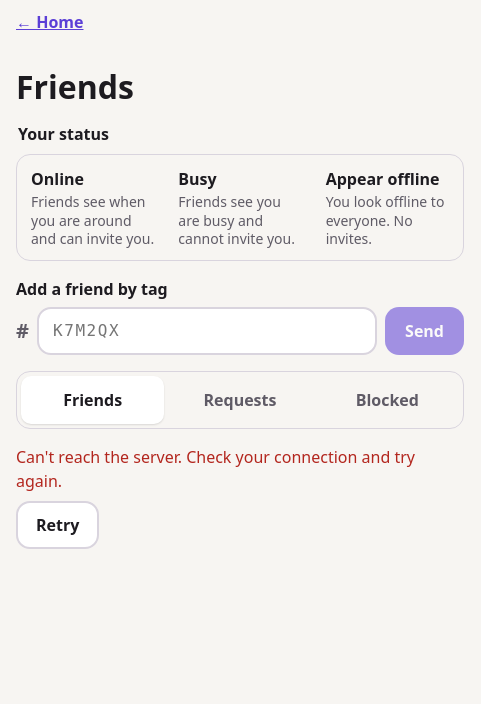
Test: add friend › auto-accepted requests say so
Step 1. Type "7TVCZE" into the field labelled "Add a friend by tag" → (207, 331), box x1=37 y1=307 x2=377 y2=355
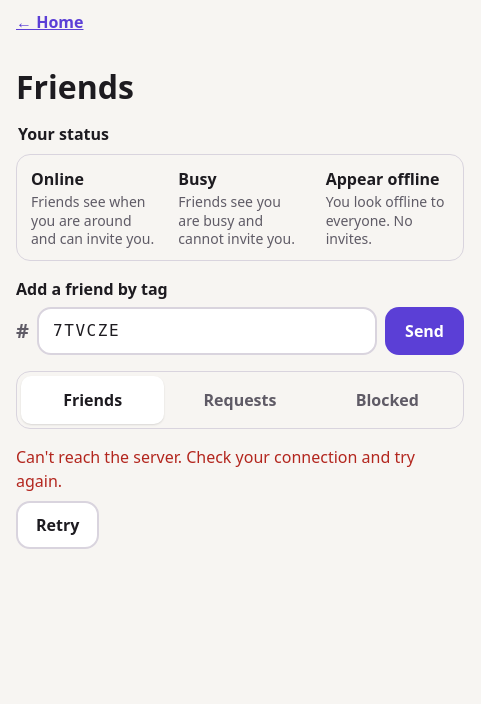
Step 2. Click the button "Send" → (425, 331), box x1=385 y1=307 x2=464 y2=355
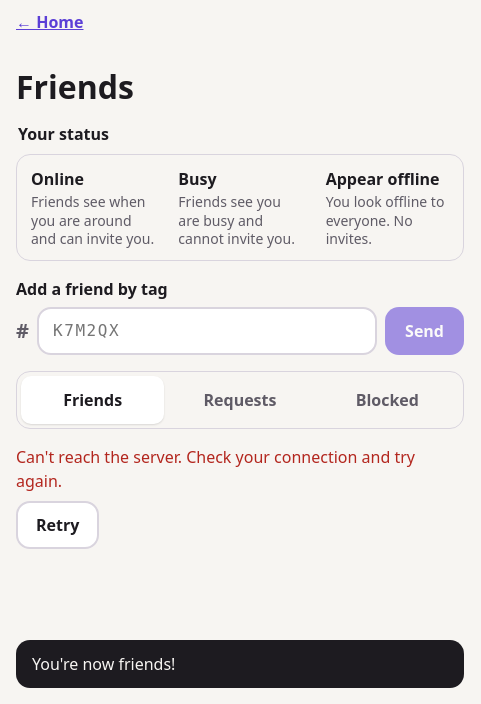
Check: the text "You're now friends!" is shown, box x1=16 y1=640 x2=464 y2=688
